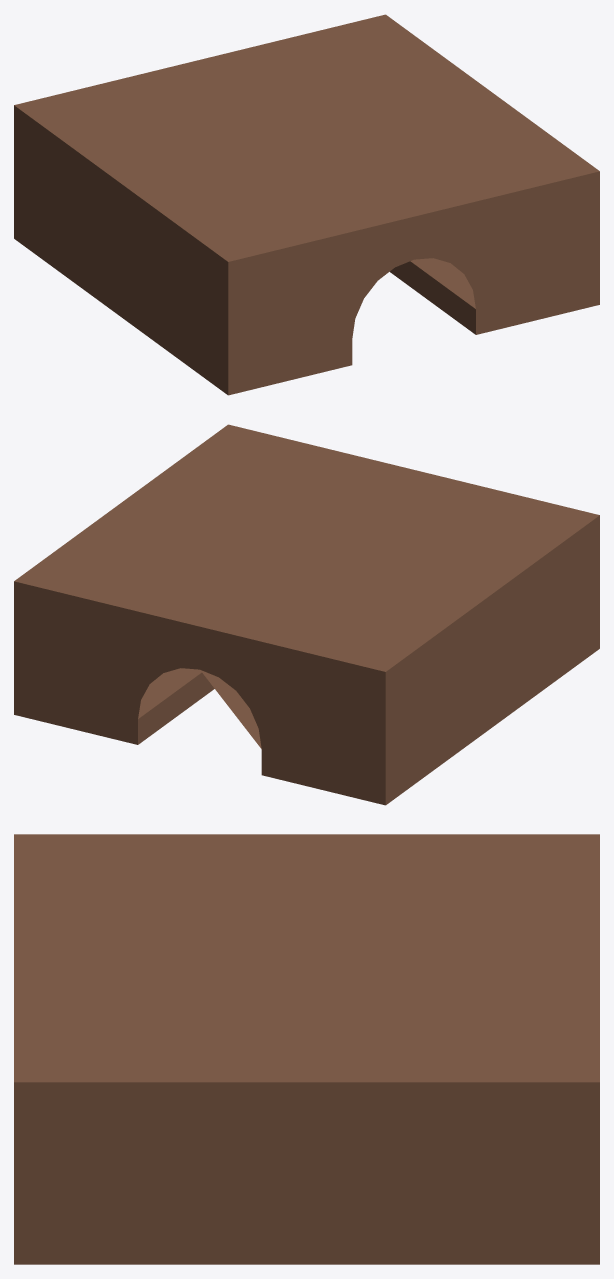
File: Block Aquaduct.fbx
The picture shows the model from 3 angles, top to bottom: view 1: azimuth 30°, elevation 25°; view 2: azimuth 150°, elevation 25°; view 3: azimuth 270°, elevation 25°; orthographic projection. The views are drawn at different scales.
Visible parts, largest first — view 1: Block_waterway cutout; view 2: Block_waterway cutout; view 3: Block_waterway cutout.
Boxes of the visible parts, box(x1,y1,x2,y2) form: Block_waterway cutout: box(14, 14, 599, 395); Block_waterway cutout: box(14, 424, 599, 805); Block_waterway cutout: box(14, 834, 599, 1264).
Bounding box in the file's own units: 3.01 × 1.03 × 3.
